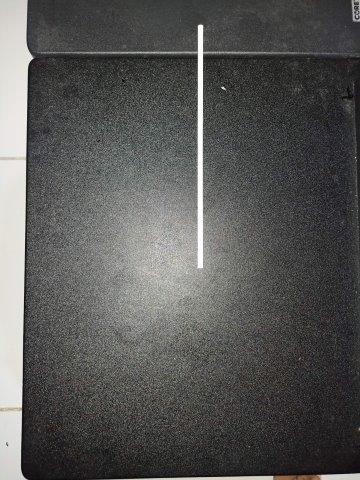sedotan: (197, 24, 203, 269)
